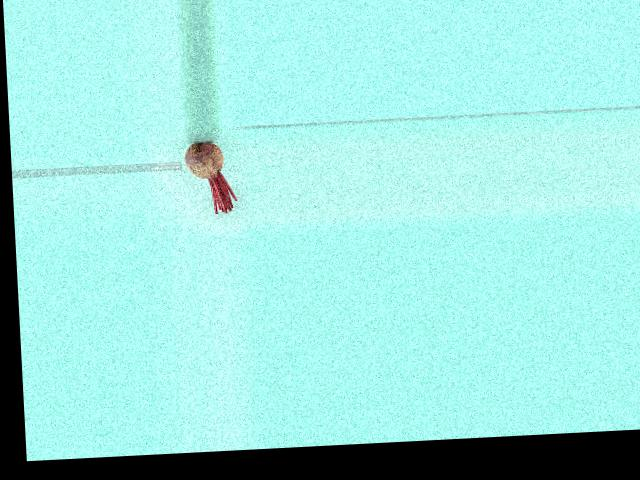beet: (183, 140, 237, 214)
